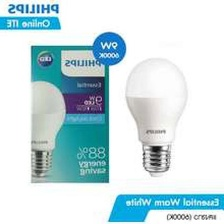book: (27, 33, 116, 186)
light_bulb: (121, 52, 193, 180)
